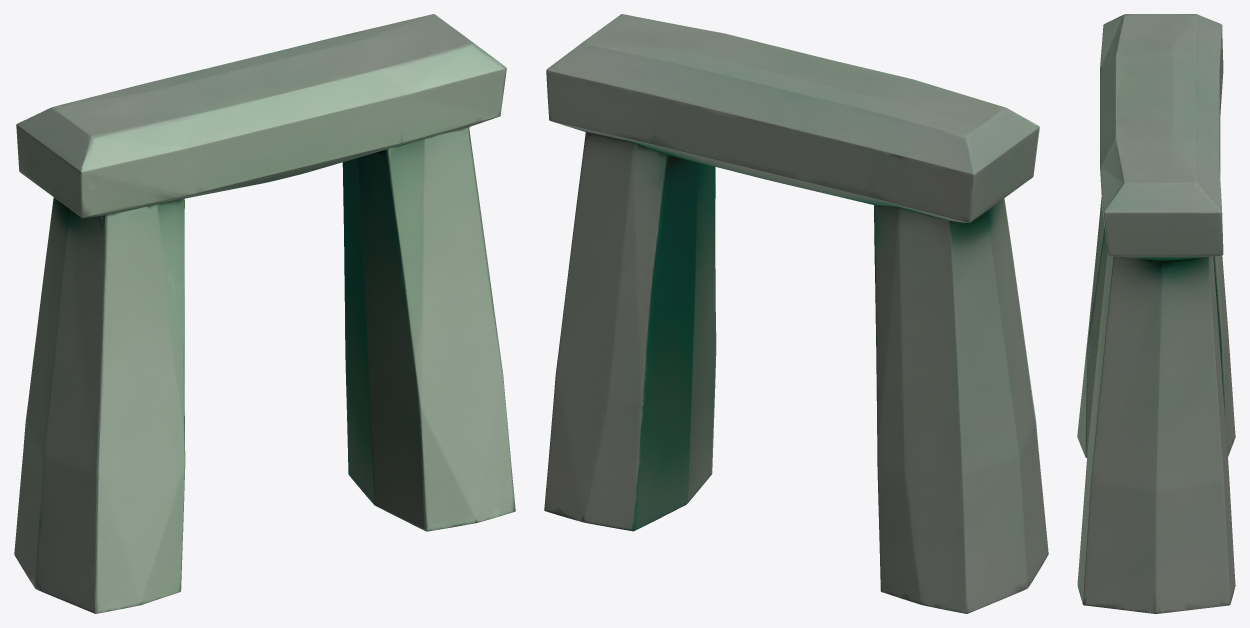
The model's file is stone_arch.glb.
The picture shows the model from 3 angles, left to right: view 1: azimuth 30°, elevation 25°; view 2: azimuth 150°, elevation 25°; view 3: azimuth 270°, elevation 25°; orthographic projection. The views are drawn at different scales.
Visible parts, largest first — view 1: node_0; view 2: node_0; view 3: node_0.
Boxes of the visible parts, x1,y1,x2,y2 form: node_0: [14, 14, 515, 613]; node_0: [544, 14, 1048, 613]; node_0: [1077, 14, 1235, 613].
Size of the model in its own units: 0.8672 by 0.8307 by 0.2852.
1 material, 1 textured.
